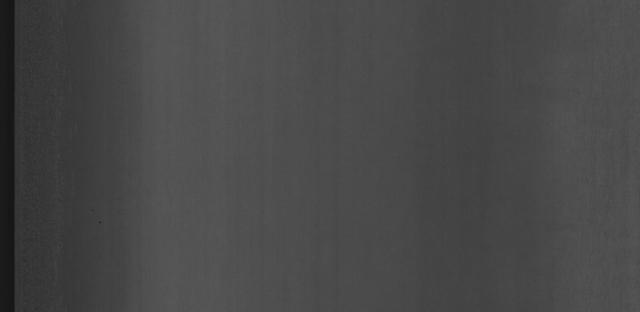silk_spot: (575, 10, 640, 252)
